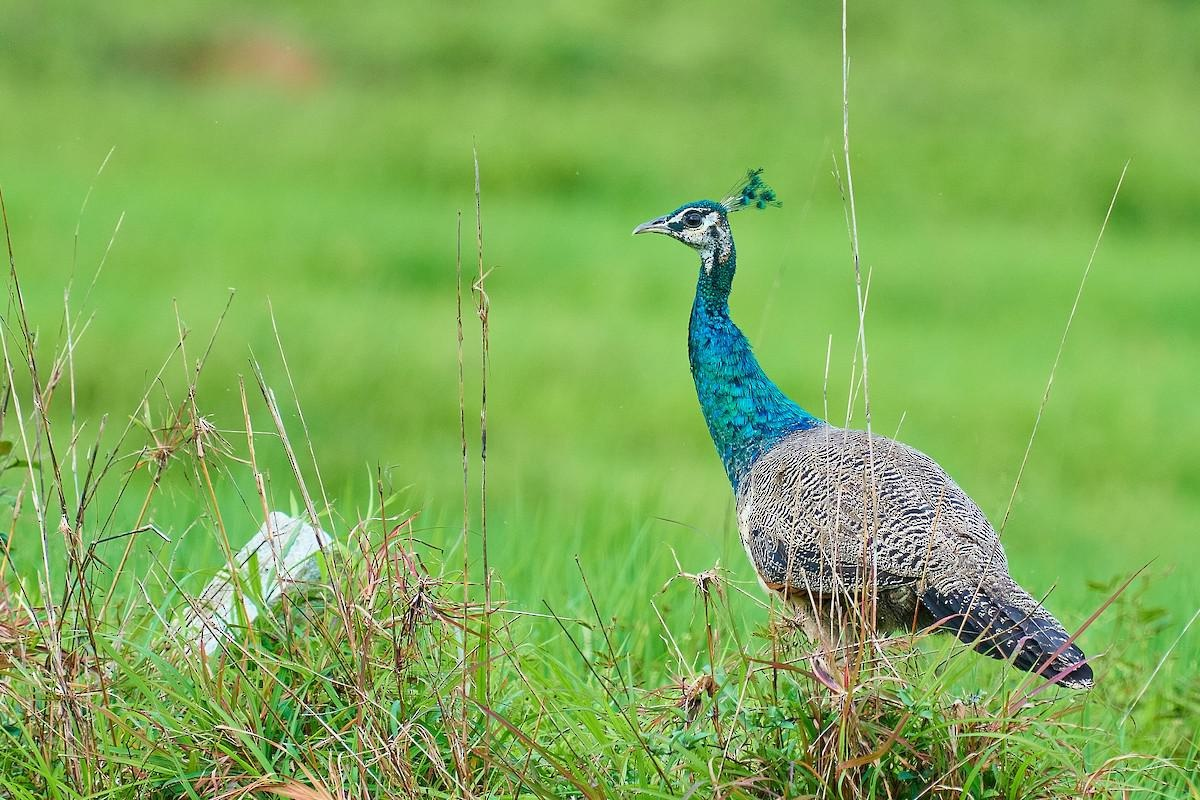peacock: (640, 136, 1138, 710)
